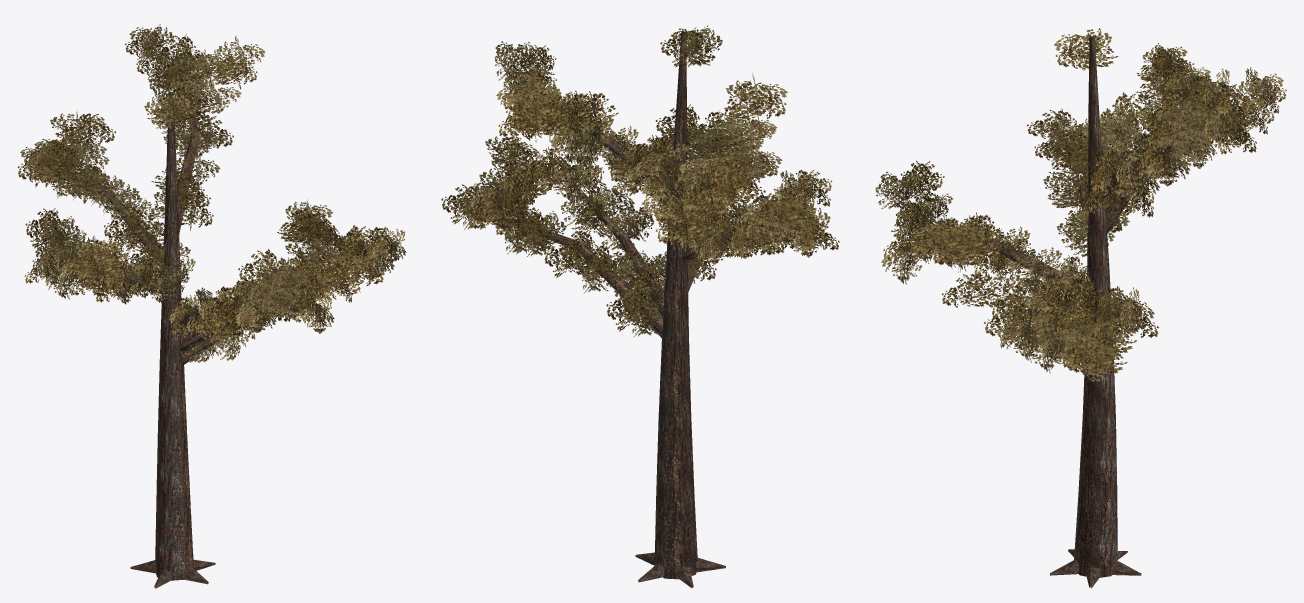
File: tree_3d_01_golden_beige_lod1.glb
The picture shows the model from 3 angles, left to right: view 1: azimuth 30°, elevation 25°; view 2: azimuth 150°, elevation 25°; view 3: azimuth 270°, elevation 25°; orthographic projection. The views are drawn at different scales.
Visible parts, largest first — view 1: foliage_cards, wood_geometry; view 2: foliage_cards, wood_geometry; view 3: foliage_cards, wood_geometry.
Part boxes in pixels (box(x1,y1,x2,y2)): foliage_cards: box(17, 24, 406, 362); wood_geometry: box(63, 71, 346, 588); foliage_cards: box(441, 25, 839, 337); wood_geometry: box(477, 31, 768, 588); foliage_cards: box(875, 28, 1286, 382); wood_geometry: box(915, 36, 1233, 588).
Bounding box in the file's own units: 7.11 × 9.14 × 6.44.
Materials: 2 (2 with a texture image).
